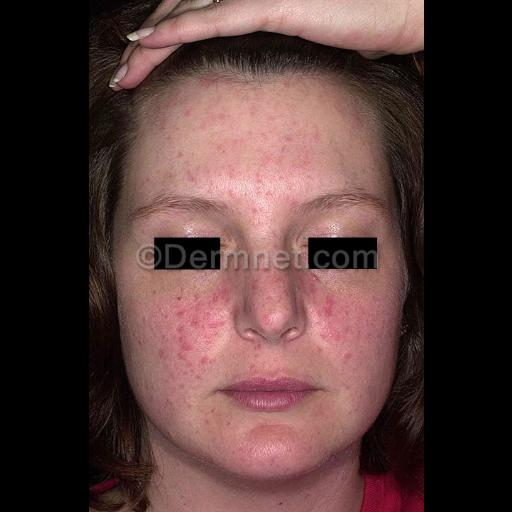Skin_Lesion: (300, 299, 364, 335), (170, 314, 194, 356), (206, 282, 236, 312), (180, 164, 208, 190), (249, 170, 273, 198), (226, 159, 240, 179)
